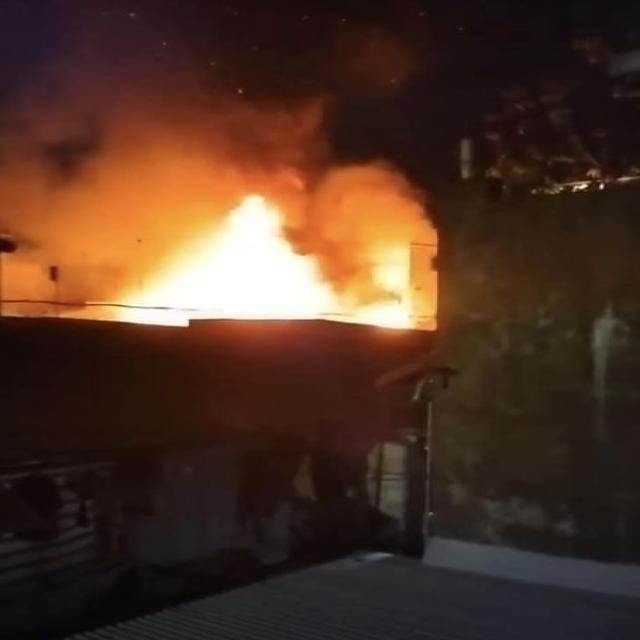Fire: (87, 178, 432, 328)
